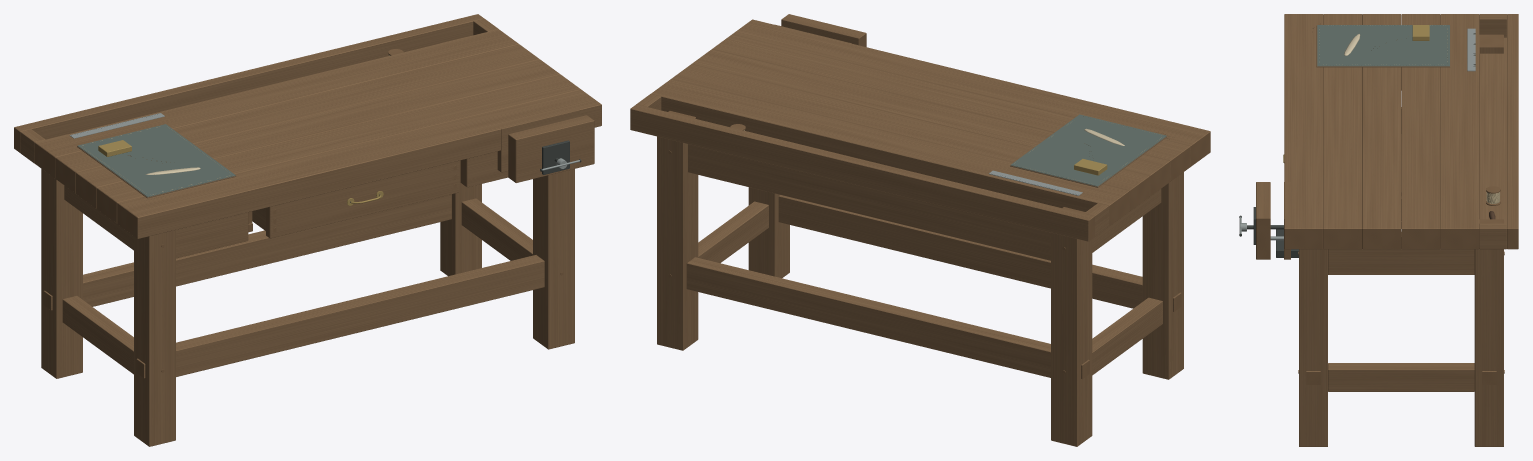
File: reading-bench-v3-compact.glb
The picture shows the model from 3 angles, left to right: view 1: azimuth 30°, elevation 25°; view 2: azimuth 150°, elevation 25°; view 3: azimuth 270°, elevation 25°; orthographic projection. The views are drawn at different scales.
Parts seen in each view (by area): view 1: bench_static__surface, drawer_pull_out__surface, binding_cutting_mat__surface, vise_moving_jaw__surface, vise_static_mount__surface; view 2: bench_static__surface, binding_cutting_mat__surface, vise_moving_jaw__surface; view 3: bench_static__surface, binding_cutting_mat__surface, vise_moving_jaw__surface, vise_static_mount__surface, binder_steel_rule__surface, brass_binding_weight__surface.
Boxes of the visible parts, x1=… form: bench_static__surface: x1=14, y1=14, x2=601, y2=446; drawer_pull_out__surface: x1=252, y1=160, x2=459, y2=238; binding_cutting_mat__surface: x1=77, y1=124, x2=236, y2=198; vise_moving_jaw__surface: x1=508, y1=115, x2=594, y2=182; vise_static_mount__surface: x1=497, y1=109, x2=579, y2=172; bench_static__surface: x1=630, y1=19, x2=1210, y2=446; binding_cutting_mat__surface: x1=1010, y1=114, x2=1167, y2=187; vise_moving_jaw__surface: x1=781, y1=14, x2=866, y2=47; bench_static__surface: x1=1284, y1=14, x2=1518, y2=446; binding_cutting_mat__surface: x1=1316, y1=25, x2=1450, y2=67; vise_moving_jaw__surface: x1=1253, y1=182, x2=1283, y2=259; vise_static_mount__surface: x1=1276, y1=182, x2=1298, y2=259; binder_steel_rule__surface: x1=1467, y1=28, x2=1475, y2=71; brass_binding_weight__surface: x1=1412, y1=25, x2=1429, y2=40.
Bounding box in the file's own units: 1.56 × 0.7912 × 0.858.
Materials: 12 (2 with a texture image).
